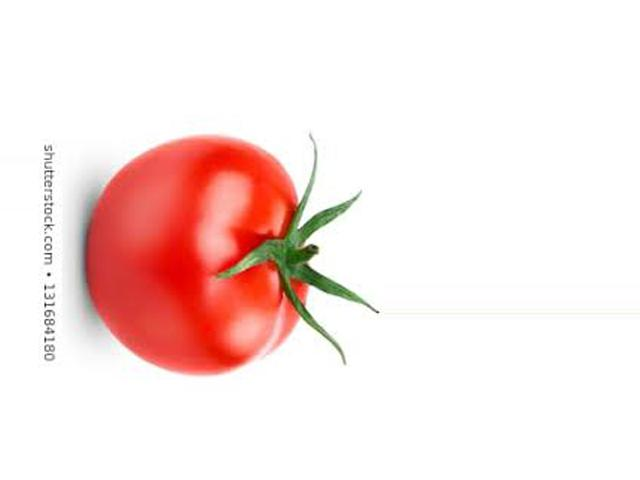tomato: (88, 136, 305, 376)
